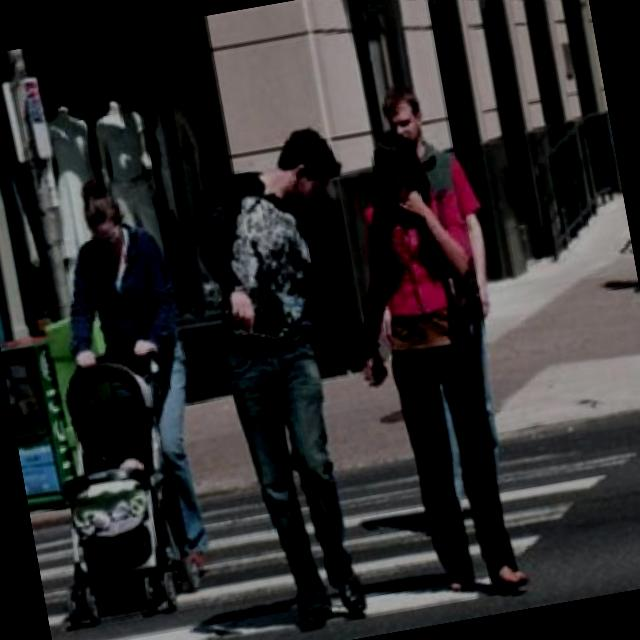Person: (180, 120, 419, 632), (336, 121, 535, 608), (42, 161, 227, 594)
